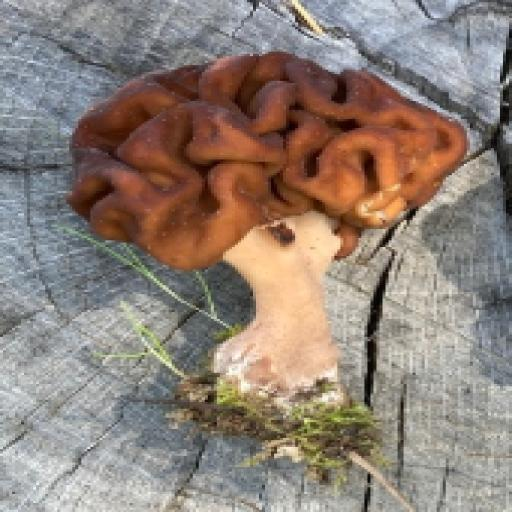mushroom: (3, 0, 480, 437)
